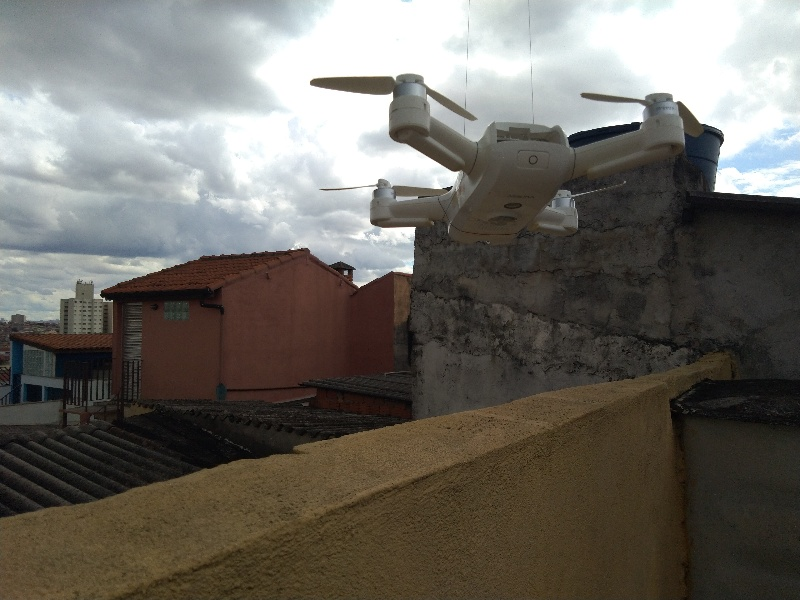drone: (308, 54, 707, 254)
